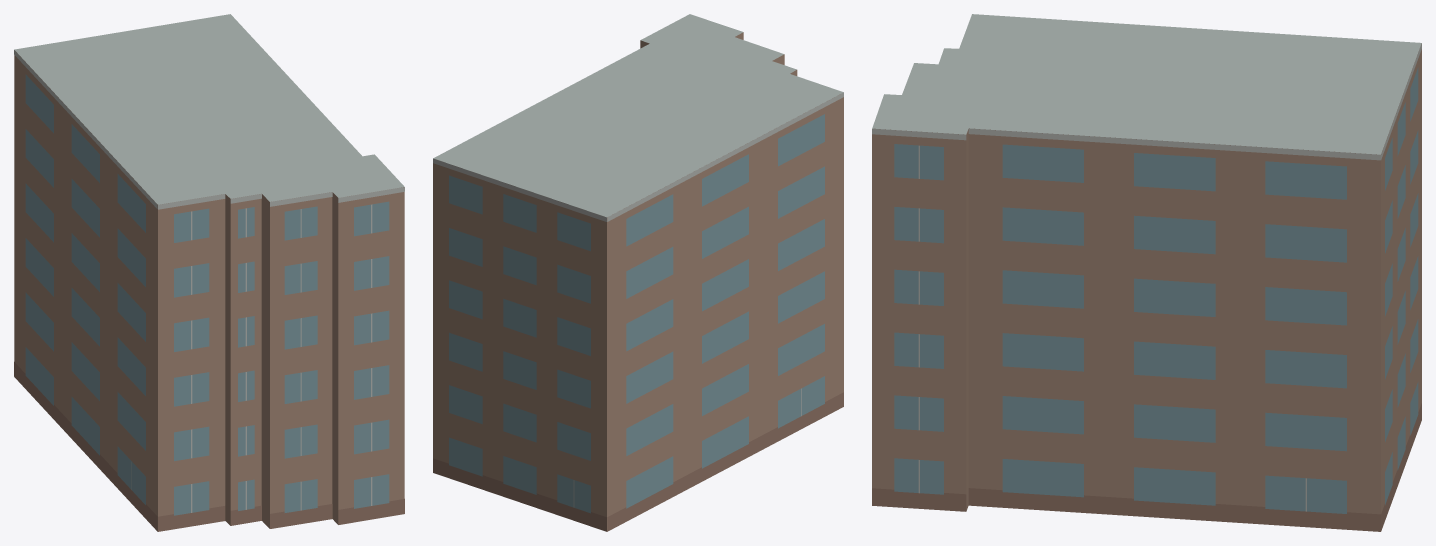
The model's file is survey-upis-32974438.glb.
The picture shows the model from 3 angles, left to right: view 1: azimuth 30°, elevation 25°; view 2: azimuth 150°, elevation 25°; view 3: azimuth 270°, elevation 25°; orthographic projection. The views are drawn at different scales.
Visible parts, largest first — view 1: survey-upis-32974438.tmp; view 2: survey-upis-32974438.tmp; view 3: survey-upis-32974438.tmp.
Part boxes in pixels (left/top/right/bottom): survey-upis-32974438.tmp: left=14, top=14, right=404, bottom=531; survey-upis-32974438.tmp: left=433, top=14, right=843, bottom=531; survey-upis-32974438.tmp: left=872, top=14, right=1421, bottom=531.
Size of the model in its own units: 12.89 by 16.1 by 21.28.
